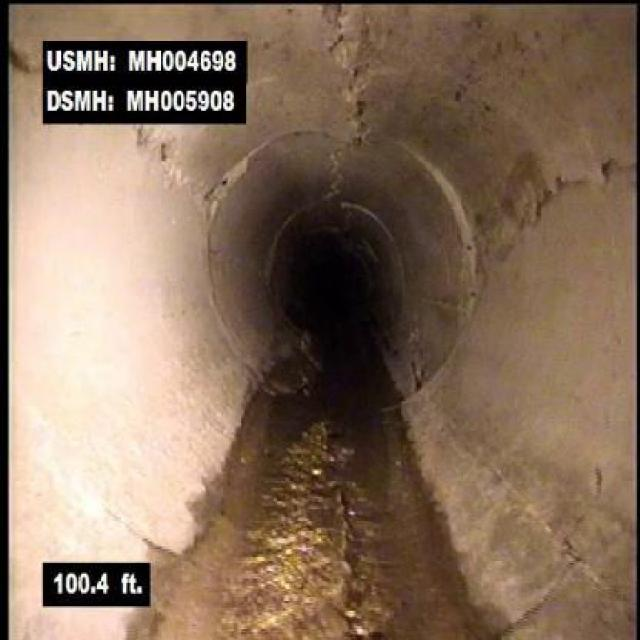Buckling: (311, 35, 386, 154)
Crack: (522, 145, 636, 237), (325, 483, 369, 615), (129, 132, 194, 203)
